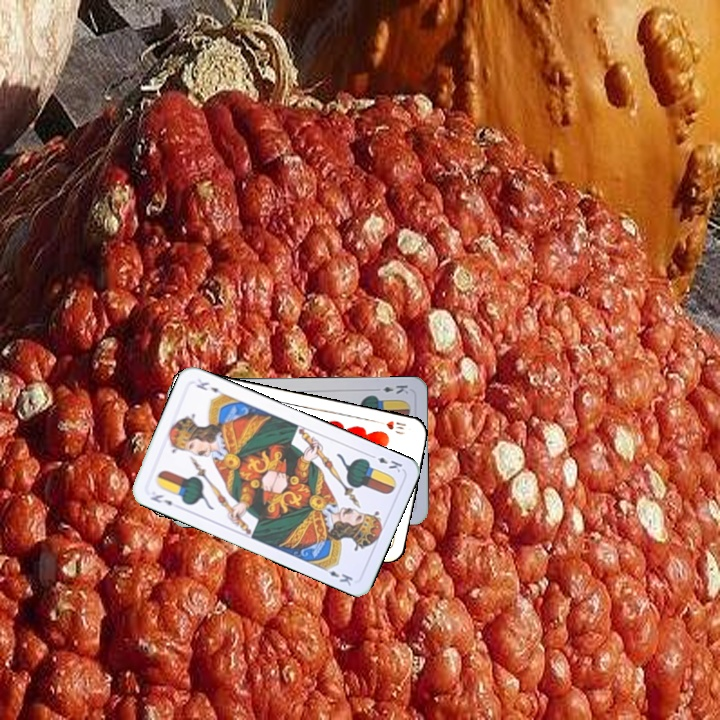EK: (365, 450, 405, 475), (146, 490, 175, 508), (379, 381, 411, 397)
H10: (372, 416, 409, 437)
